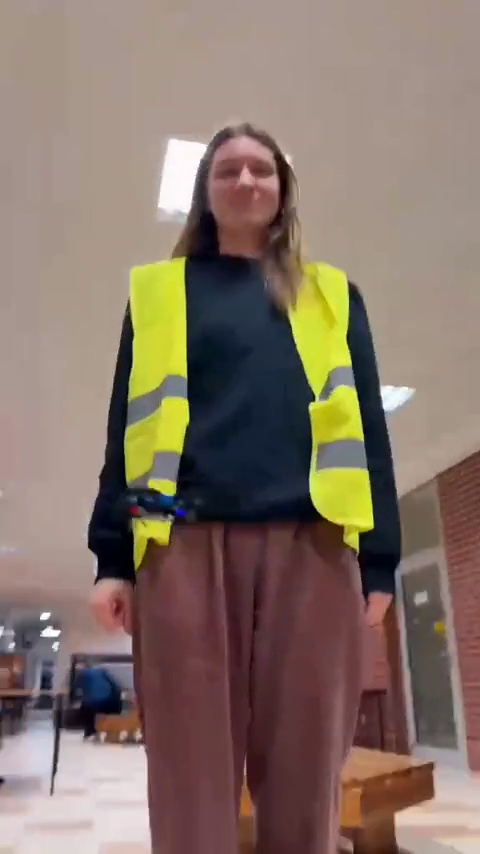drone: (113, 482, 203, 523)
vest: (93, 123, 399, 847)
